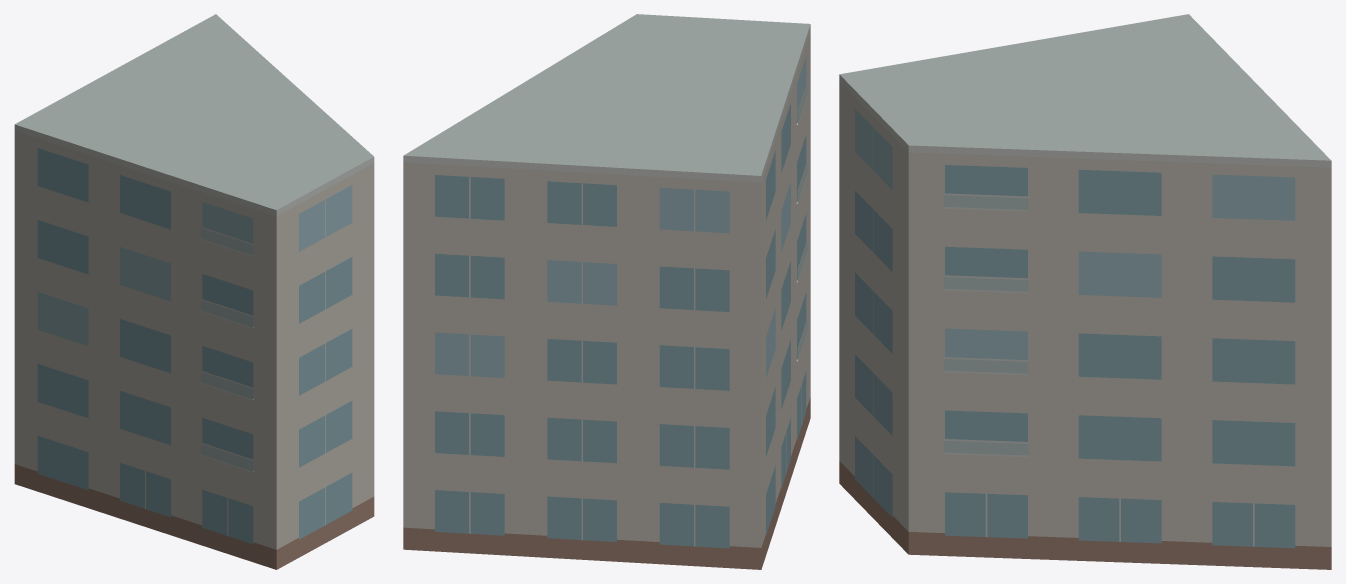
The model's file is survey-upis-32849642.glb.
3 renders of one model, left to right at view 1: azimuth 30°, elevation 25°; view 2: azimuth 150°, elevation 25°; view 3: azimuth 270°, elevation 25°, orthographic. The views are drawn at different scales.
Visible parts, largest first — view 1: survey-upis-32849642.tmp; view 2: survey-upis-32849642.tmp; view 3: survey-upis-32849642.tmp.
Part boxes in pixels (x1,y1,x2,y2): survey-upis-32849642.tmp: (14, 14, 374, 569); survey-upis-32849642.tmp: (403, 14, 810, 569); survey-upis-32849642.tmp: (839, 14, 1331, 569).
Bounding box in the file's own units: 11.15 × 14.5 × 15.81.
